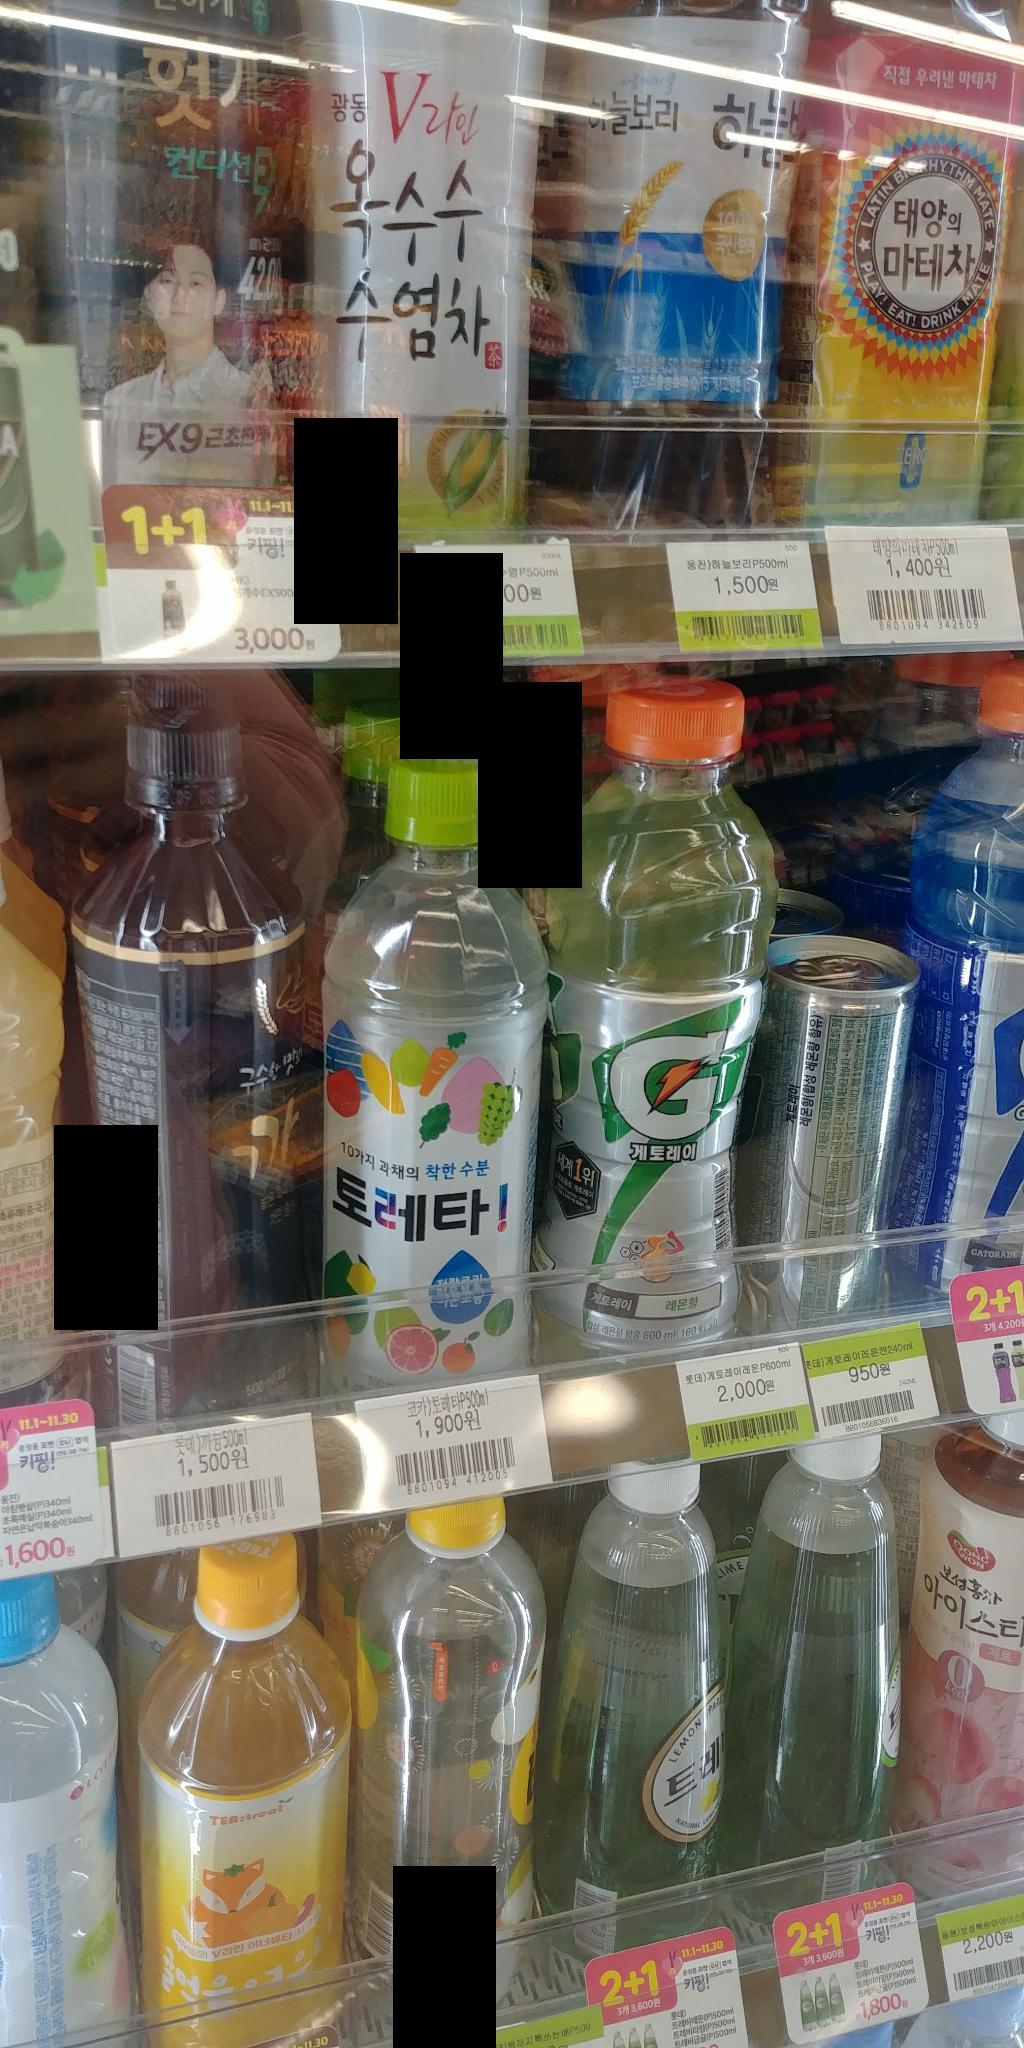gatorade_lemon: (516, 667, 760, 1353)
haneulbori: (522, 0, 824, 529)
oksususuyeomcha: (308, 0, 563, 543)
toreta: (316, 729, 543, 1398)
